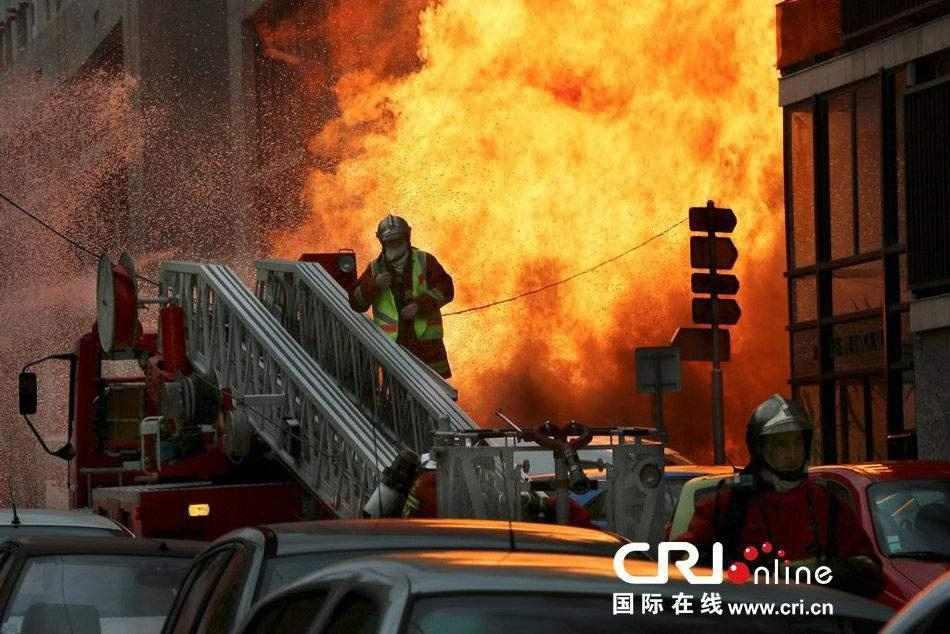fire: (288, 6, 778, 447)
